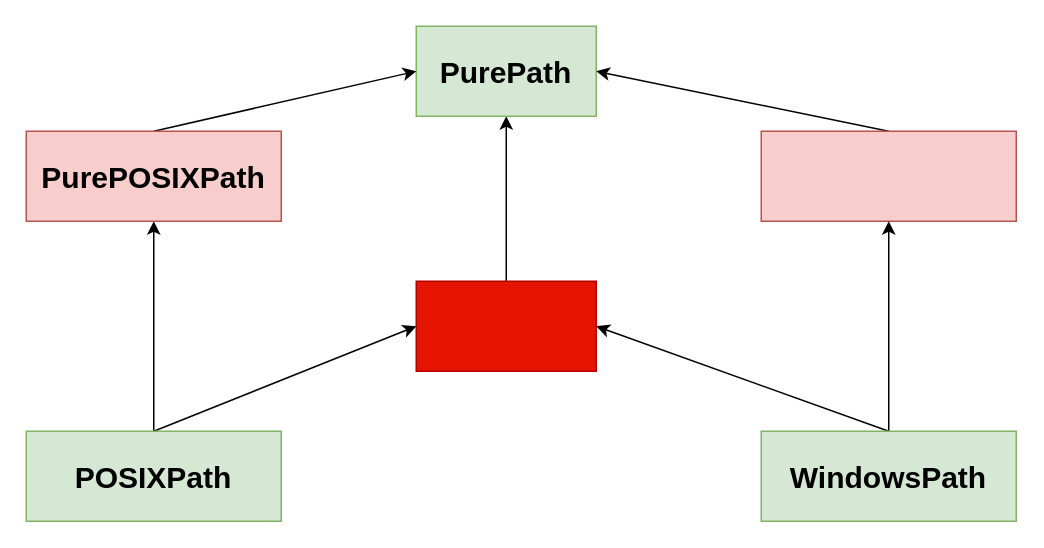
The diagram is 1044 pixels wide and 548 high, and some of its shapes have lost their labels. The centre of each missing label's shape, as x and y in pixels:
"Path" goes at [505,325].
"PureWindowsPath" goes at [888,175].
